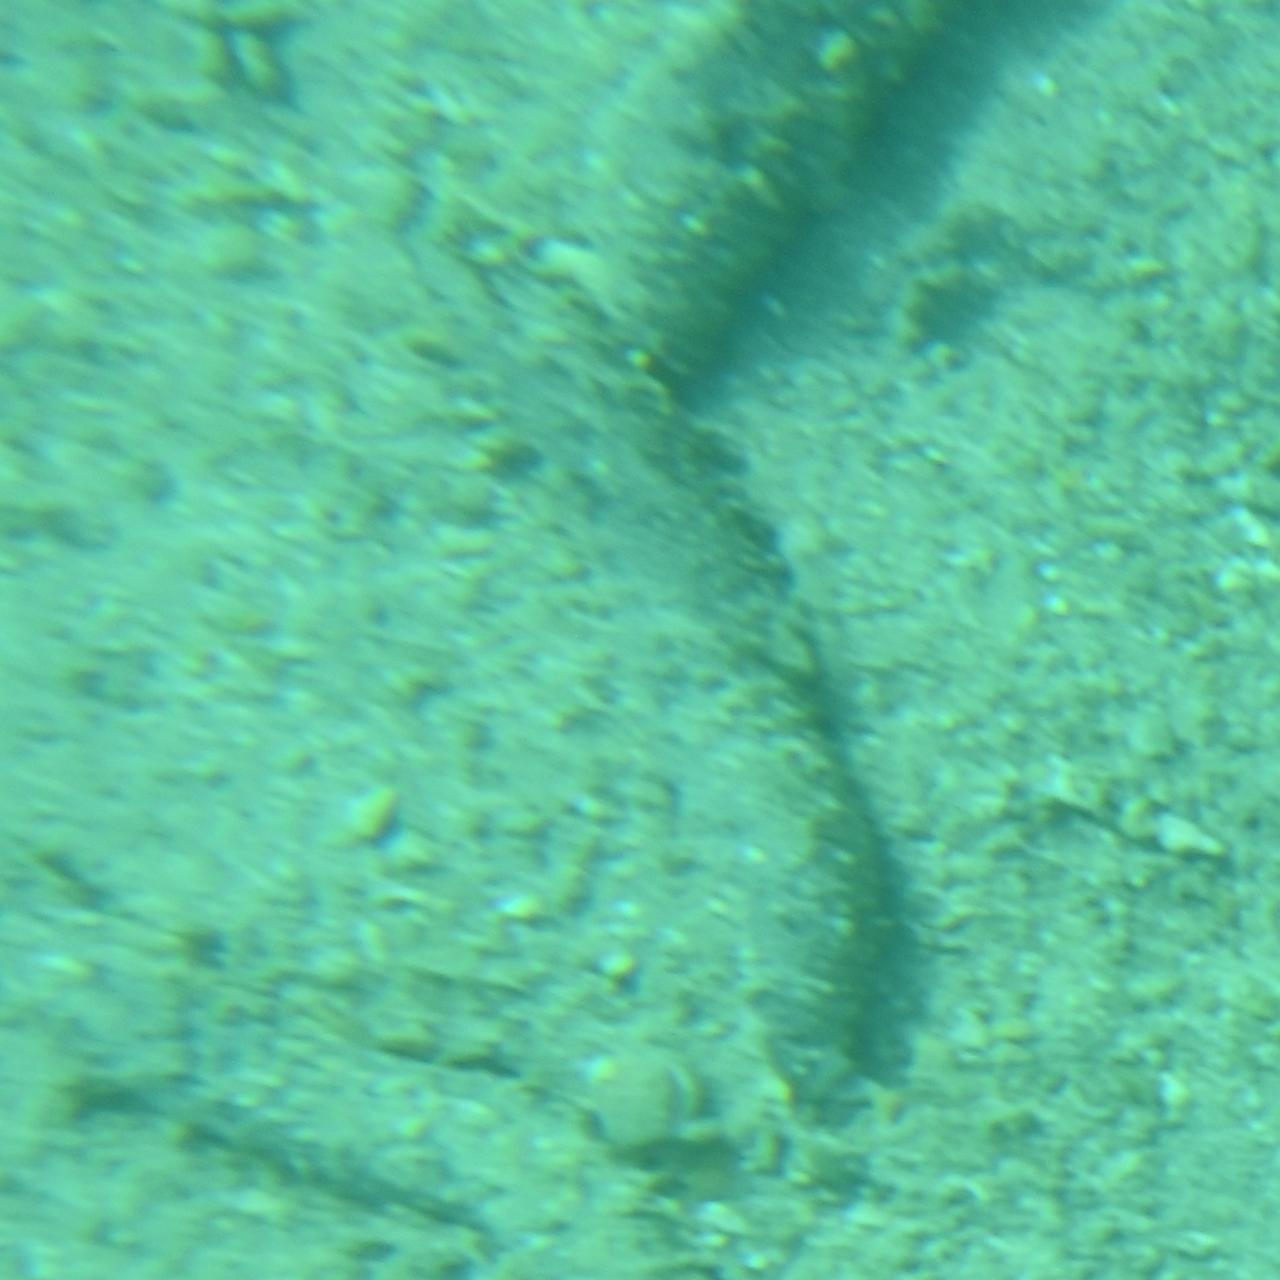Holothuria tubulosa: (409, 199, 941, 1157), (484, 0, 1159, 375), (30, 942, 753, 1280)
